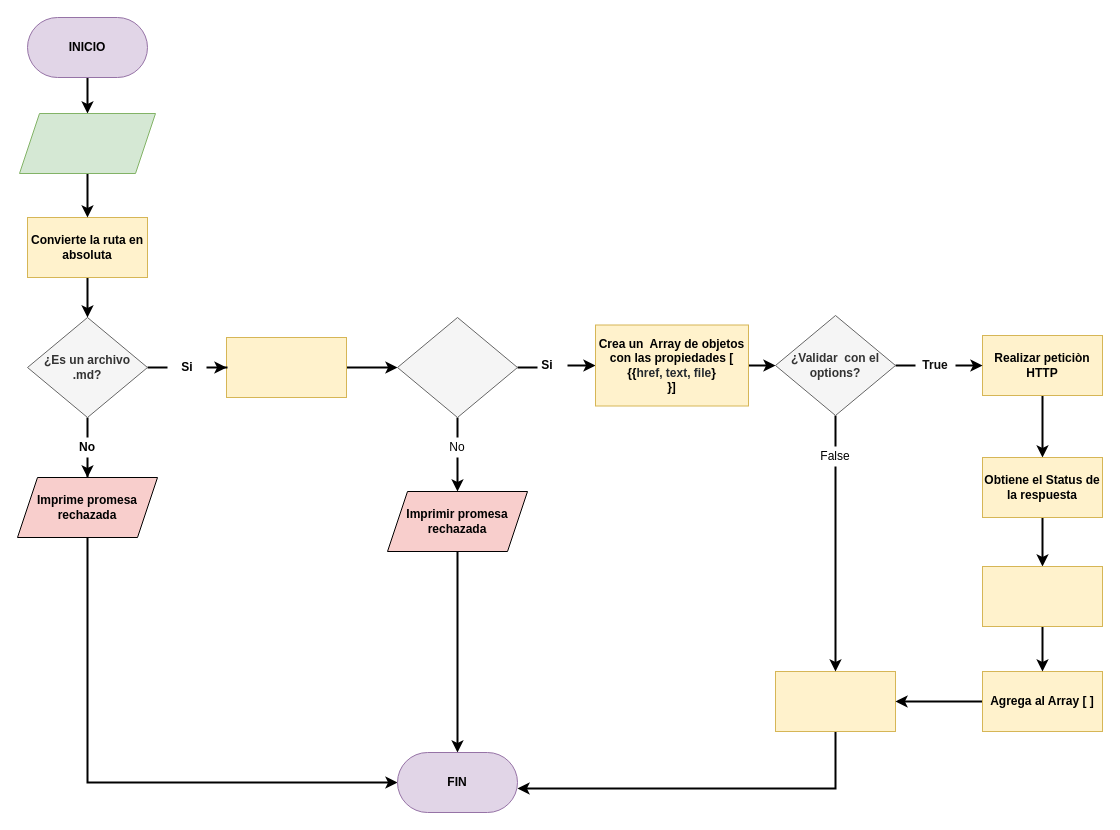
This 1120x830 diagram has some shape labels left out. Here are the shapes that lost their labels. From the top down, the centre of each, then its label:
the point at 87,143: Ingresa la ruta del archivo y options
the point at 286,367: Leer el contenido del archivo
the point at 457,367: ¿Tiene Link?
the point at 1042,596: Crea el objeto Link con el Status de respuesta
the point at 835,701: Retorna la promesa [ARRAY]
